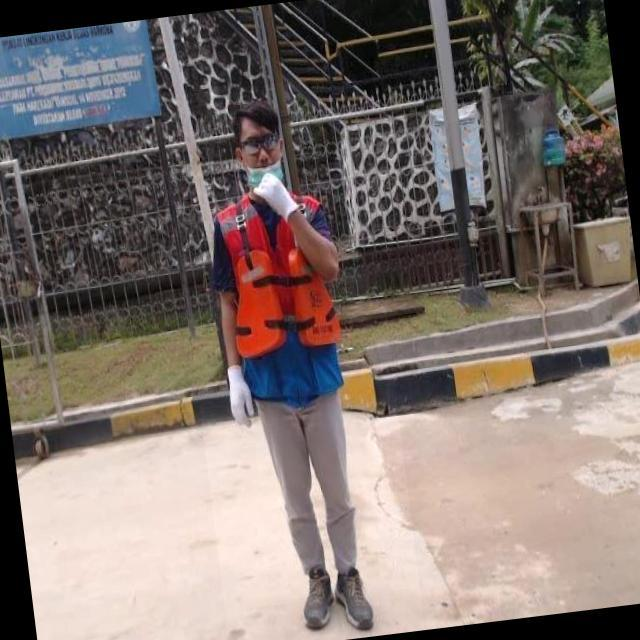Human: (161, 72, 424, 640)
Safety Boot: (335, 565, 380, 636), (295, 565, 340, 633)
Safety Vest: (212, 184, 353, 409)
